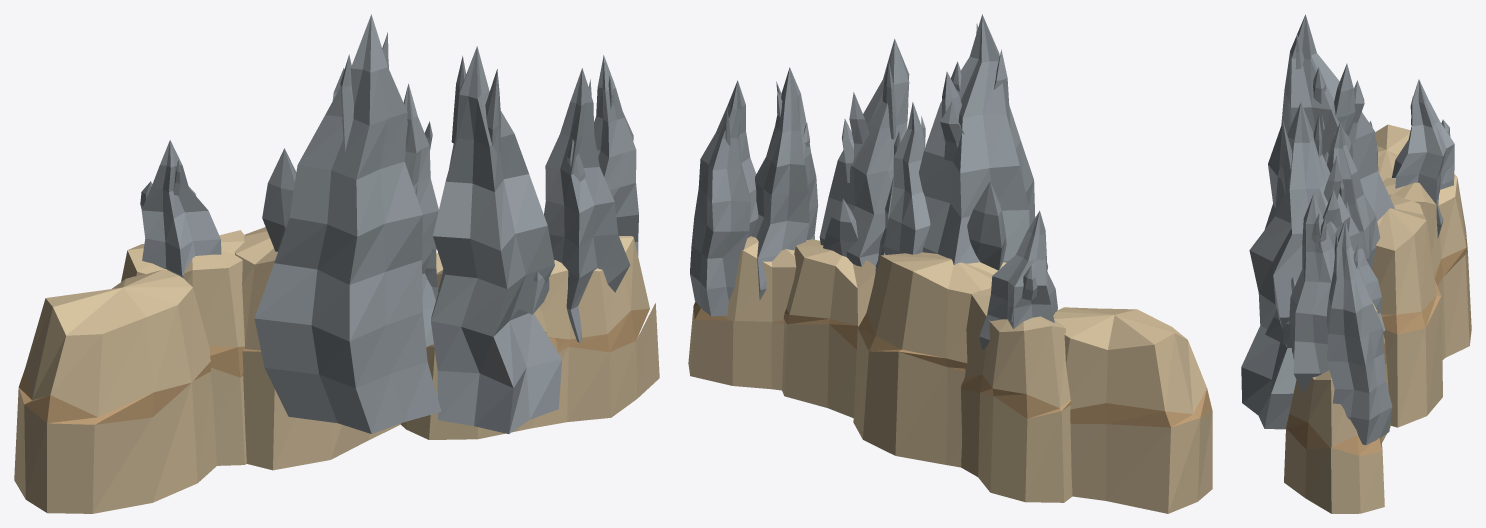
3 renders of one model, left to right at view 1: azimuth 30°, elevation 25°; view 2: azimuth 150°, elevation 25°; view 3: azimuth 270°, elevation 25°, orthographic. The views are drawn at different scales.
Visible parts, largest first — view 1: black-spire-outpost-spires-disneyland; view 2: black-spire-outpost-spires-disneyland; view 3: black-spire-outpost-spires-disneyland.
Part boxes in pixels (box(x1,y1,x2,y2)): black-spire-outpost-spires-disneyland: box(14, 14, 659, 513); black-spire-outpost-spires-disneyland: box(688, 14, 1212, 513); black-spire-outpost-spires-disneyland: box(1241, 14, 1471, 513).
Size of the model in its own units: 57.46 by 41 by 22.77.
